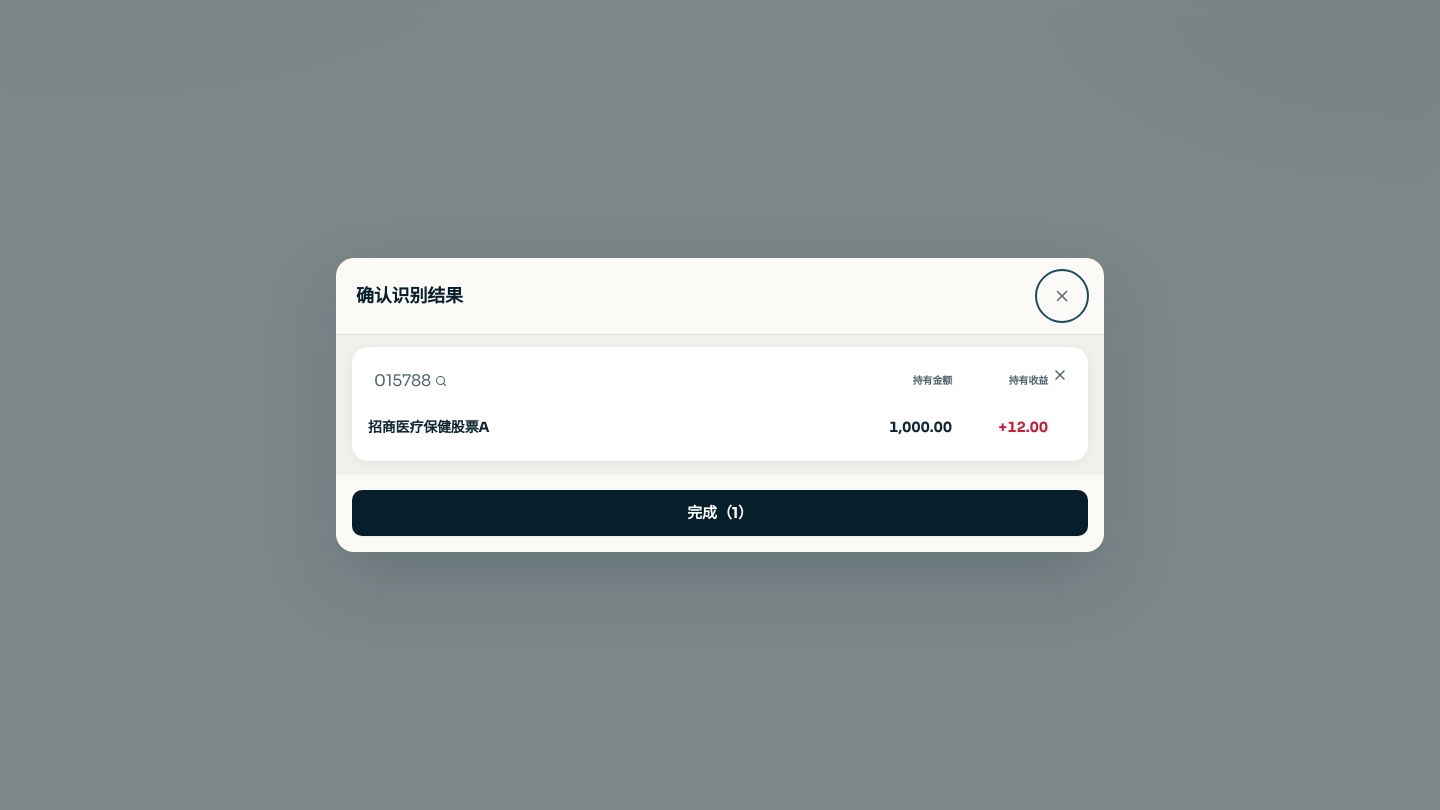
Test: shows holdings as review cards and only opens editors when asked
Expected: the button named "基金代码：招商医疗保健股票A" reads "015788", [368,359,848,403]
Expected: the text "1,000.00" is shown, [889,418,952,436]
What coordinates should you click on to do the following:
click the button with aria-label "修改持仓：招商医疗保健股票A"
I would click on:
 (429, 427)
Its box is [368,405,1048,449].
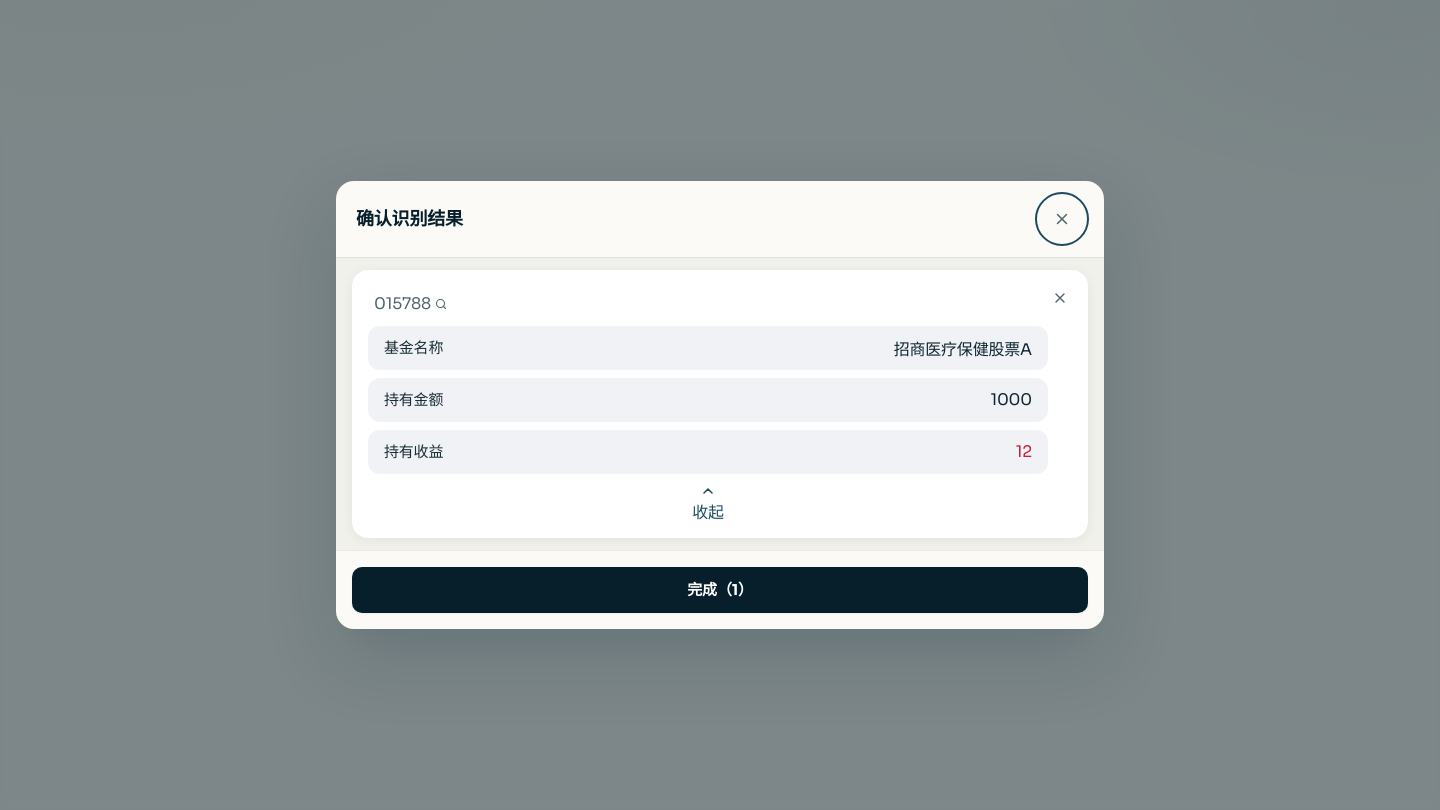
Result: the field named "持有金额：招商医疗保健股票A" holds "1000" at [455,378,1032,422]
Result: the button "收起" is shown at [368,482,1048,526]
